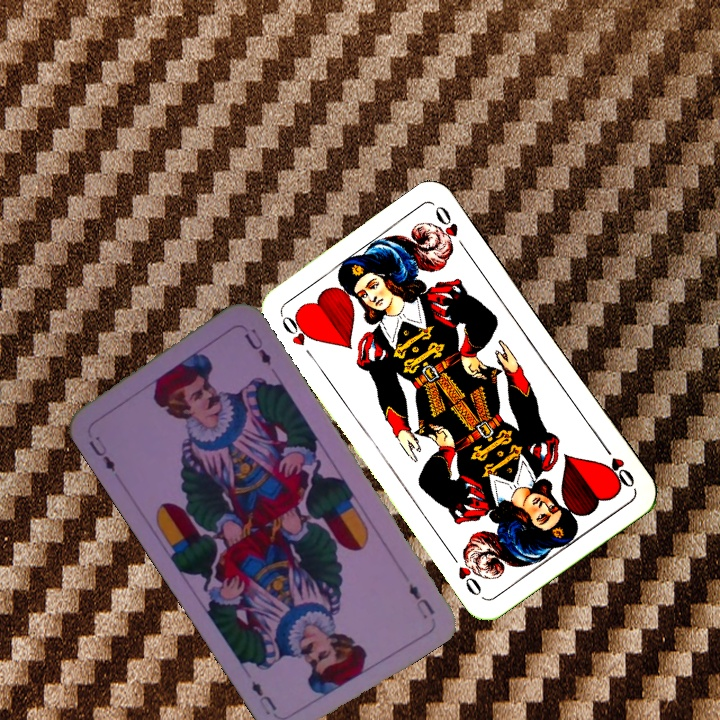EU: (84, 432, 118, 475), (404, 579, 438, 622)
HO: (597, 439, 638, 491), (276, 309, 318, 349)
